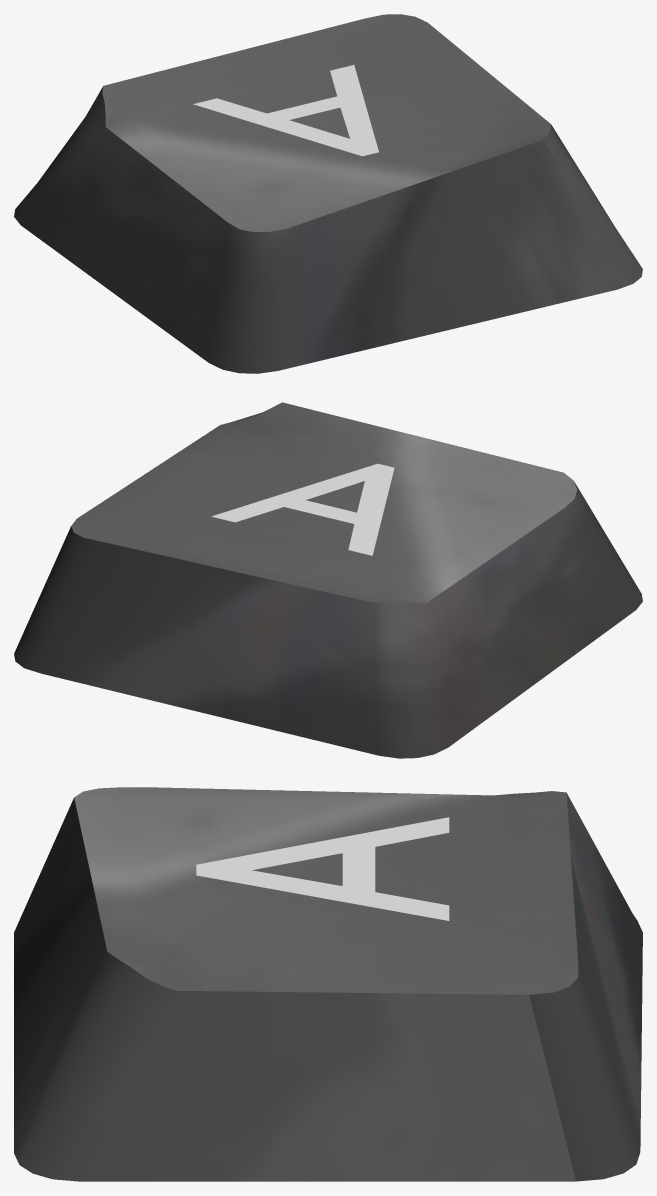
File: A Rock.fbx
3 renders of one model, top to bottom at view 1: azimuth 30°, elevation 25°; view 2: azimuth 150°, elevation 25°; view 3: azimuth 270°, elevation 25°, orthographic. The views are drawn at different scales.
Visible parts, largest first — view 1: keyboard.001, Text.001; view 2: keyboard.001, Text.001; view 3: keyboard.001, Text.001.
Boxes of the visible parts, box(x1,y1,x2,y2) form: keyboard.001: box(14, 14, 642, 373); Text.001: box(193, 65, 378, 156); keyboard.001: box(14, 402, 642, 758); Text.001: box(211, 463, 394, 555); keyboard.001: box(14, 787, 642, 1181); Text.001: box(196, 817, 449, 920).
Bounding box in the file's own units: 1.56 × 0.4657 × 1.51.
